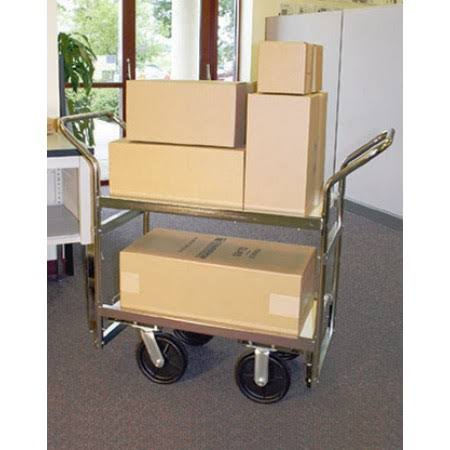Carts: (91, 132, 395, 406)
